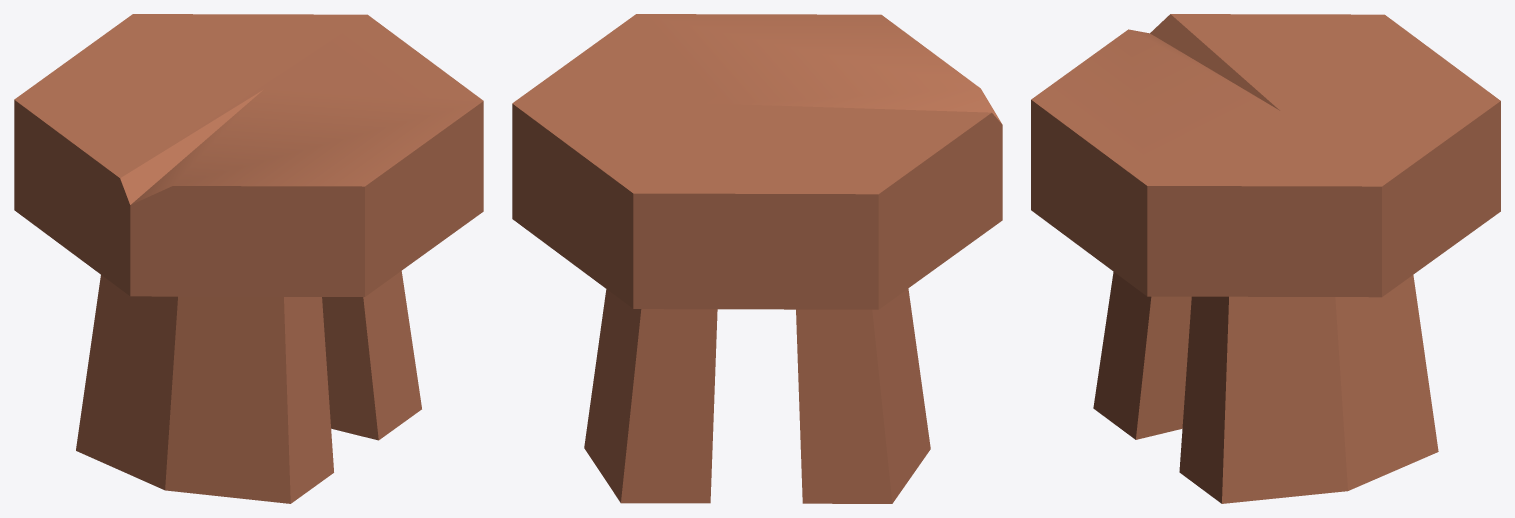
File: Chair.fbx
The picture shows the model from 3 angles, left to right: view 1: azimuth 30°, elevation 25°; view 2: azimuth 150°, elevation 25°; view 3: azimuth 270°, elevation 25°; orthographic projection. The views are drawn at different scales.
Visible parts, largest first — view 1: Chair; view 2: Chair; view 3: Chair.
Boxes of the visible parts, <box> form: Chair: <box>14,14,483,503</box>; Chair: <box>512,14,1002,503</box>; Chair: <box>1031,14,1500,503</box>.
Size of the model in its own units: 30.24 by 26.95 by 34.79.
